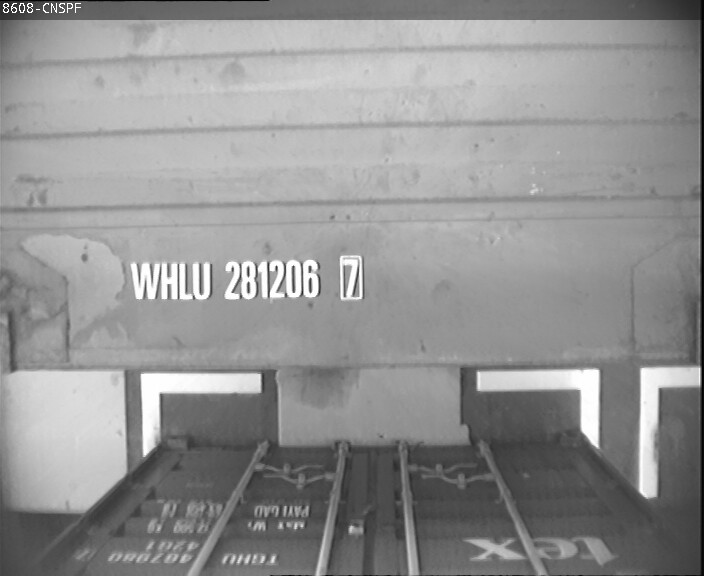groundmarker_1: (473, 372, 703, 499)
